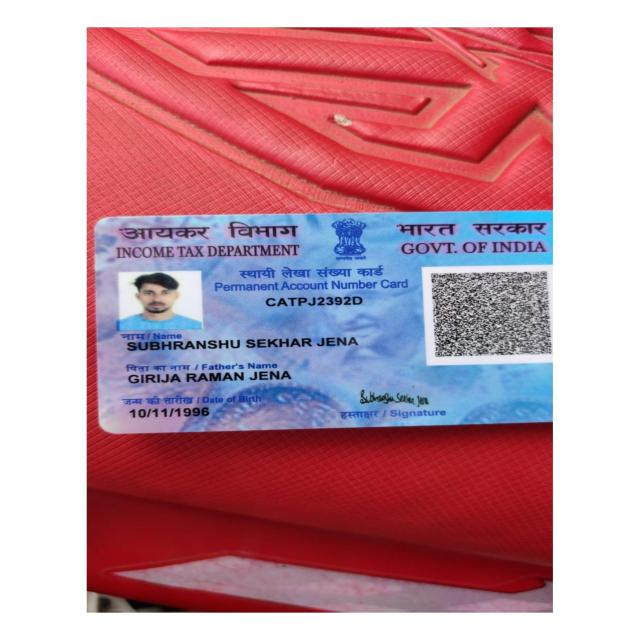pan_card: (97, 215, 552, 426)
